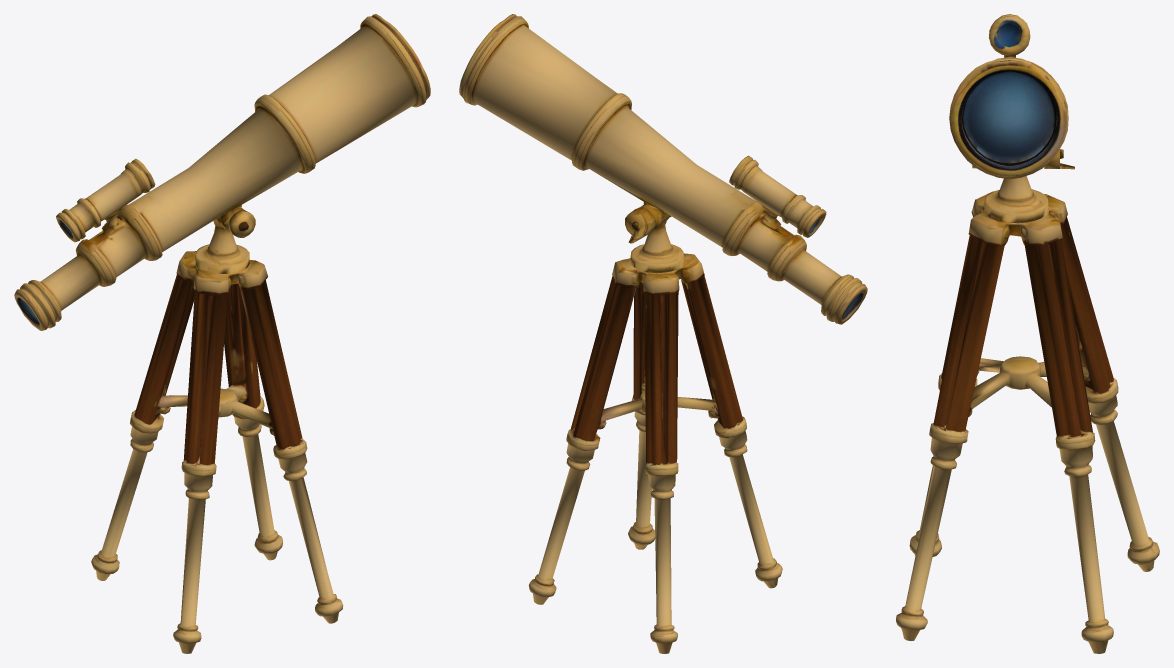
The model's file is Decor__a_brass_telescope_4a2de8bd_v3.cluster.glb.
3 views of the same model, side by side, from view 1: azimuth 30°, elevation 25°; view 2: azimuth 150°, elevation 25°; view 3: azimuth 270°, elevation 25° (orthographic). The views are drawn at different scales.
Parts seen in each view (by area): view 1: material; view 2: material; view 3: material.
Boxes of the visible parts, <box> form: material: <box>14,14,430,653</box>; material: <box>459,14,867,653</box>; material: <box>896,14,1159,653</box>.
Size of the model in its own units: 1.44 by 1.9 by 0.7166.
Materials: 1 (1 with a texture image).
